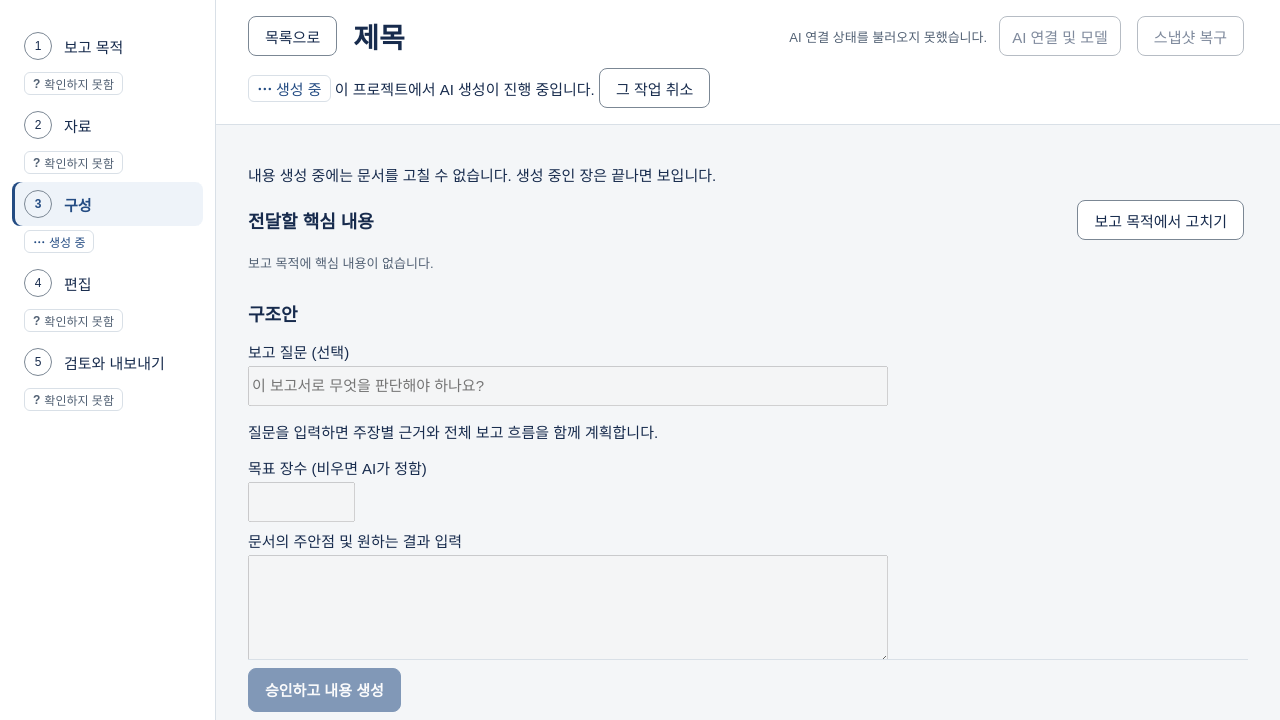
장 생성 묶음 중 (계획 4.4 표 둘째 행, 사용자 결정 Q1의 A) › 보고 목적 폼은 읽기 전용이다
This screenshot has width=1280, height=720.
Expected: the button "4 편집" is enabled, [12,261,203,305]
Expected: the text "⋯︎ 생성 중 이 프로젝트에서 AI 생성이 진행 중입니다. 그 작업 취소" is shown, [248,68,710,108]
Click the button "1 보고 목적".
click(108, 46)  # box [12,24,203,68]
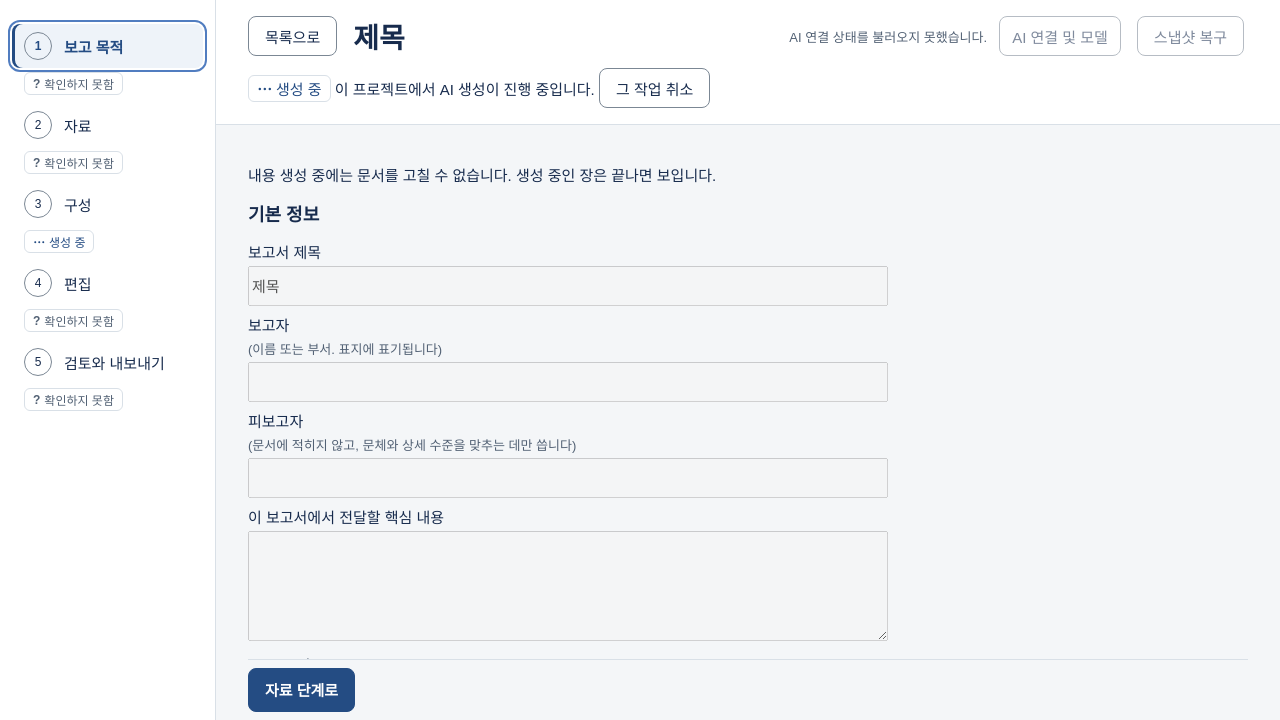
Expected: the button "자료 단계로" is enabled, [248,668,355,712]
Expected: the field labelled "보고서 제목" is disabled, [248,266,888,306]
